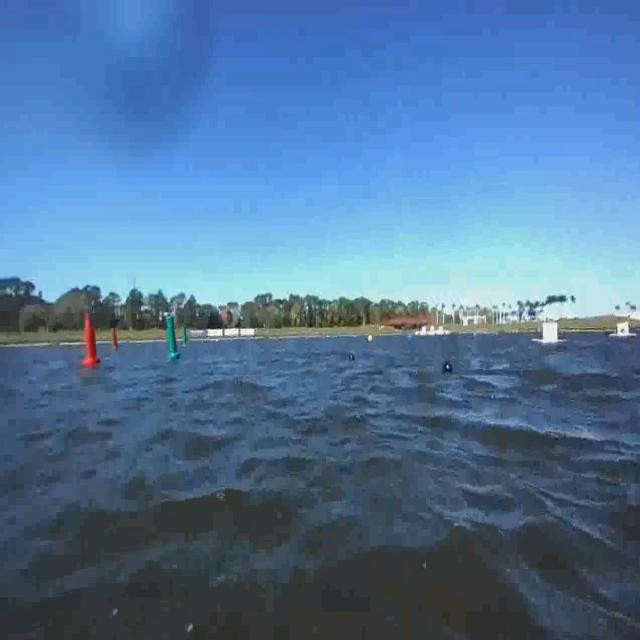black-buoy: (444, 360, 454, 374), (350, 353, 356, 363)
green-column-buoy: (164, 318, 180, 361), (184, 328, 190, 346)
red-column-buoy: (82, 311, 101, 367), (112, 326, 120, 349)
yellow-buoy: (366, 335, 372, 345)
